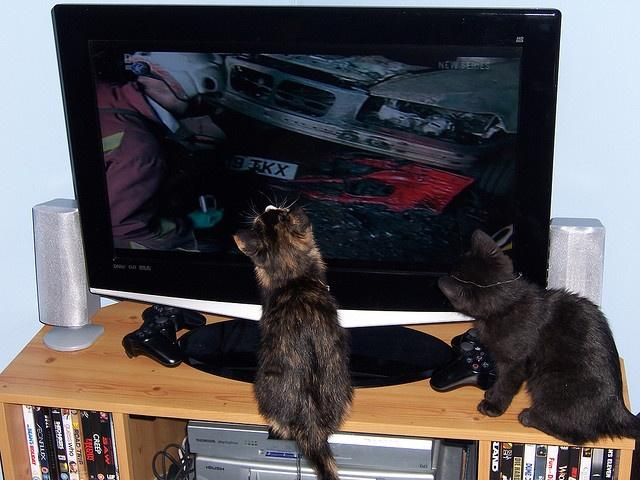AIO PC-Monitor-TV: (49, 3, 561, 326)
